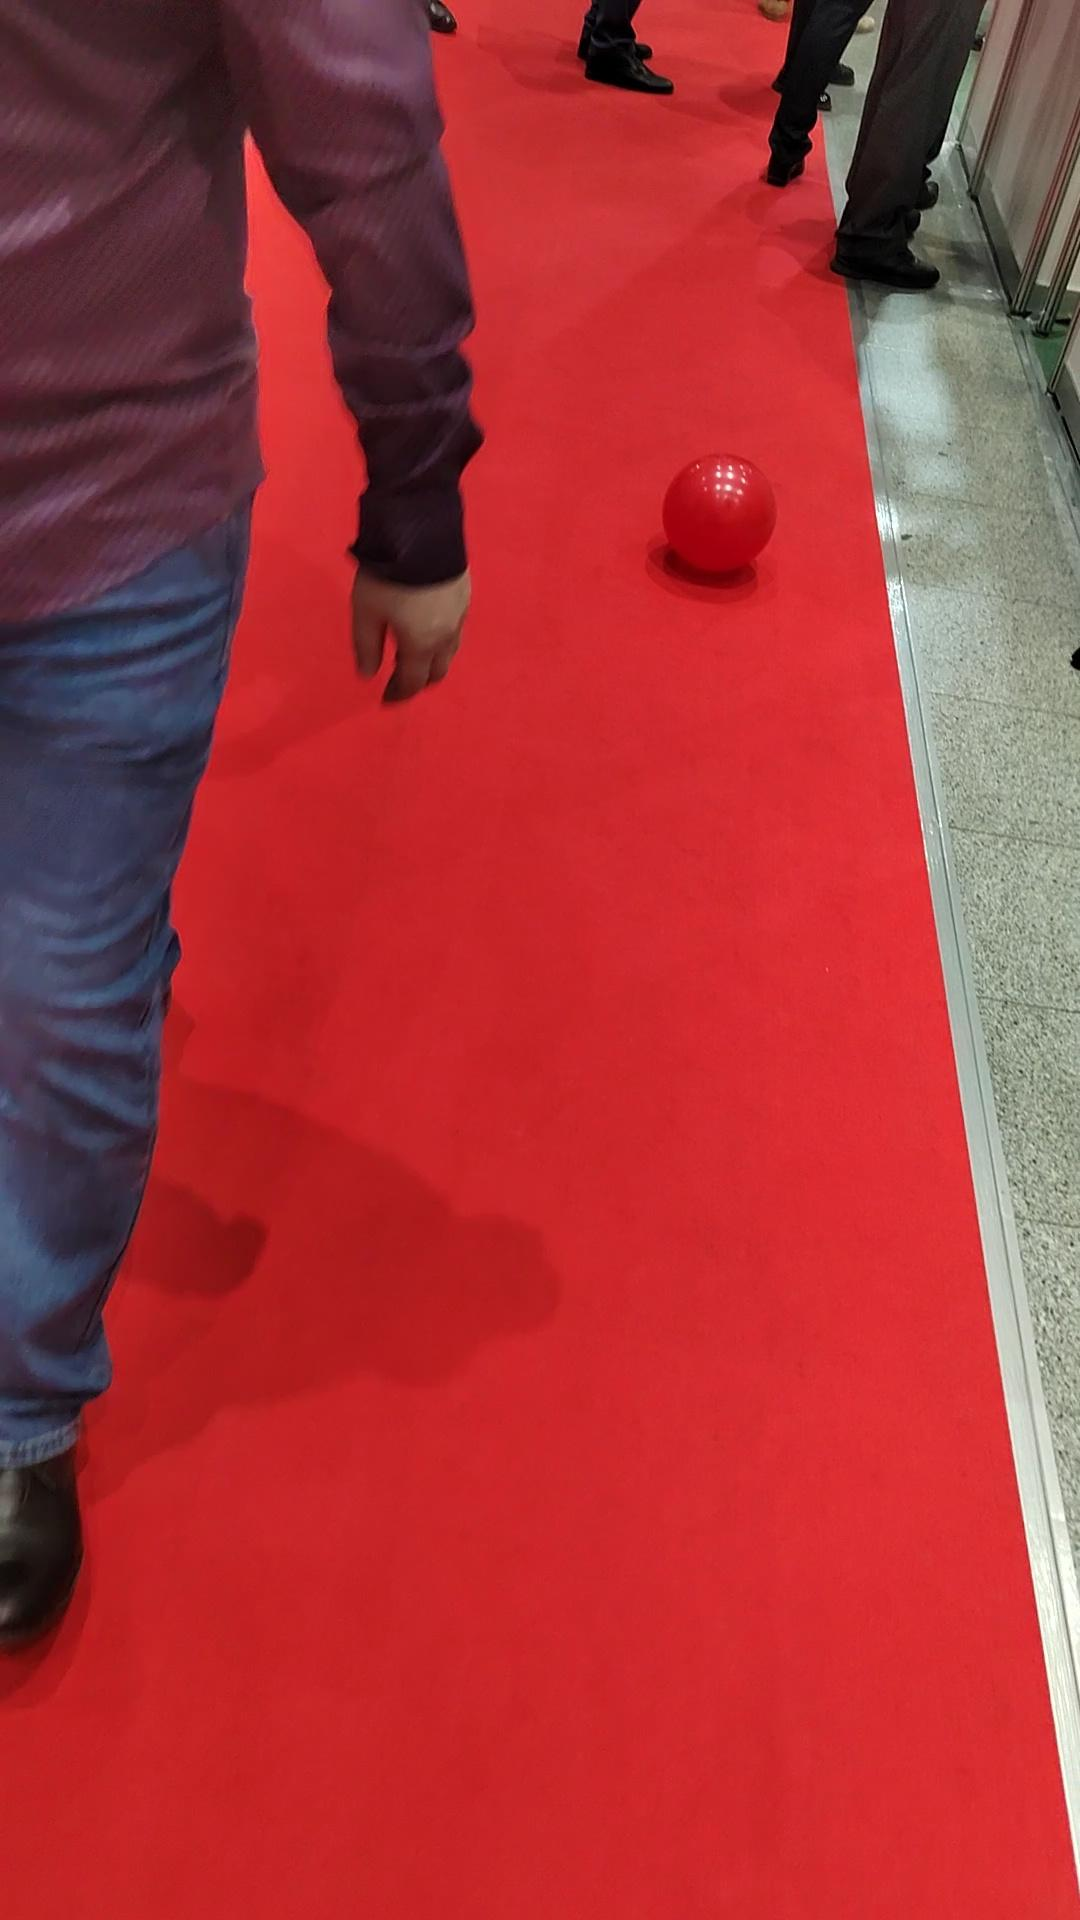red: (661, 454, 777, 575)
